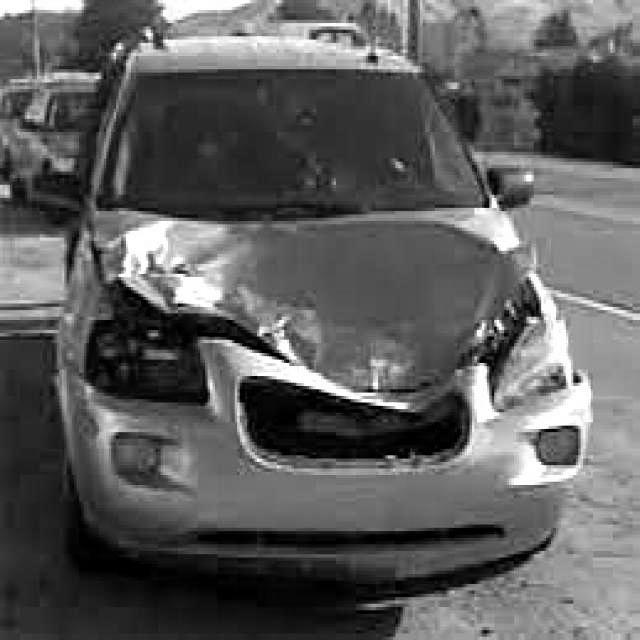Headlight-damage: (478, 288, 591, 423)
bonnet-dent: (89, 201, 492, 395)
